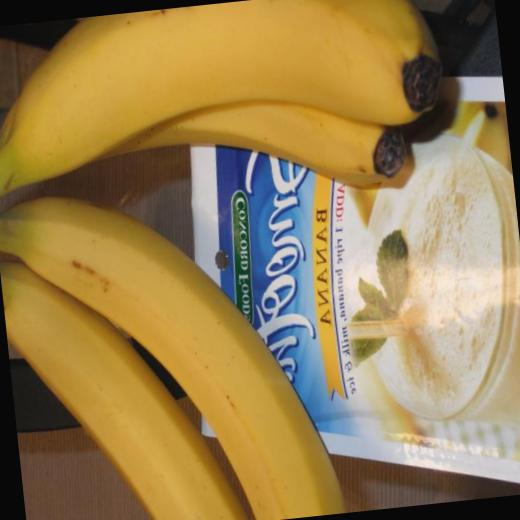Banana: (0, 22, 483, 513), (0, 0, 452, 200), (0, 237, 251, 520), (91, 87, 408, 214)
